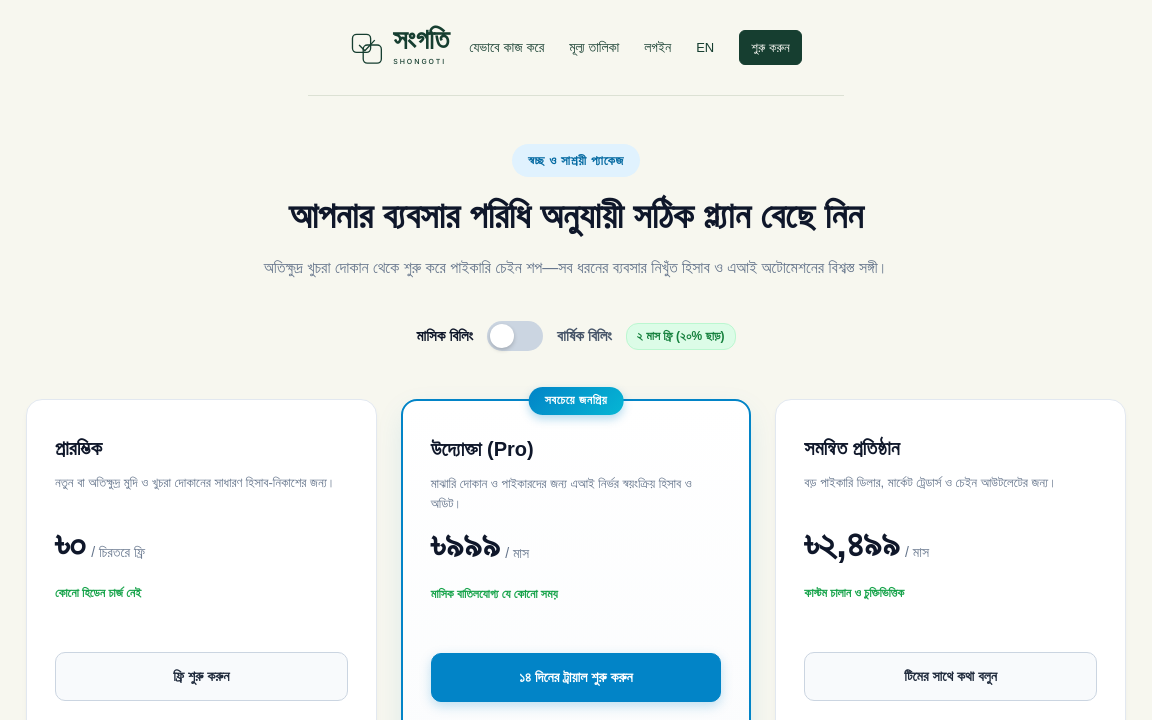
Test case: PricingPage Component › toggles billing between monthly and annual
The width and height of the screenshot is (1152, 720).
Expected: the text "৳৯৯৯" is shown, [431, 514, 499, 577]
Click switch to Annual
Click the button named "বিলিং পরিবর্তন করুন".
click(515, 336)  # box [487, 321, 543, 351]
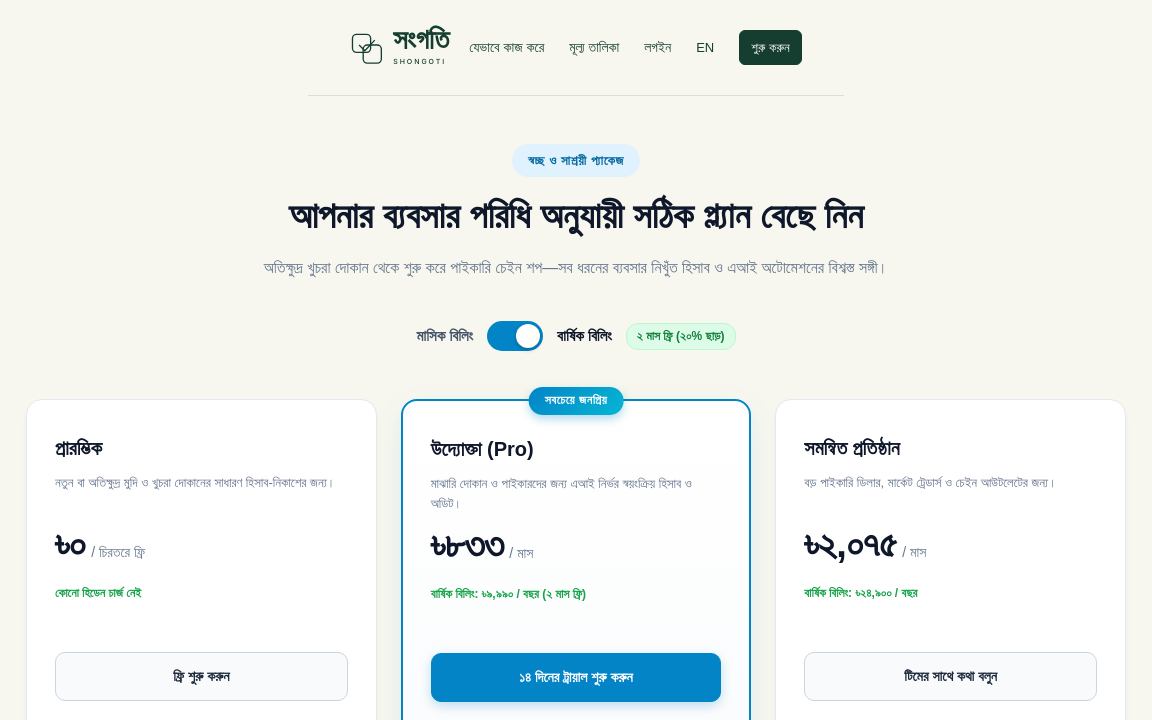
Result: the text "৳৮৩৩" is shown at [431, 514, 503, 577]
Result: the text "বার্ষিক বিলিং: ৳৯,৯৯০ / বছর (২ মাস ফ্রি)" is shown at [431, 587, 586, 601]
